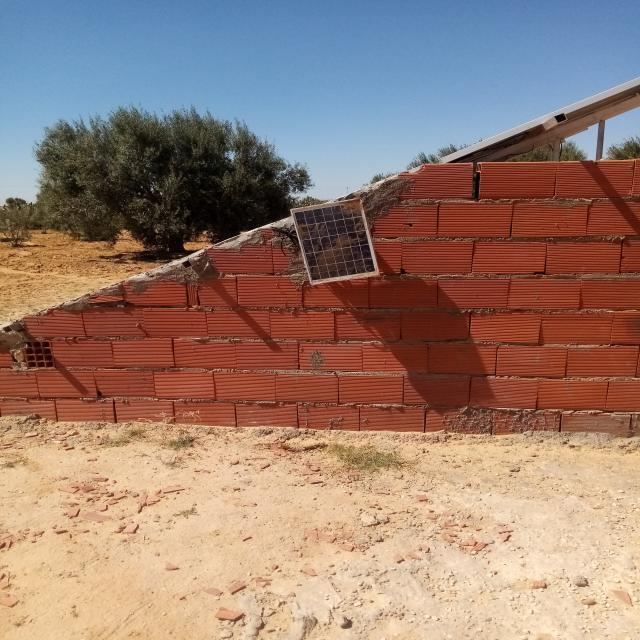faulty: (291, 198, 379, 284)
